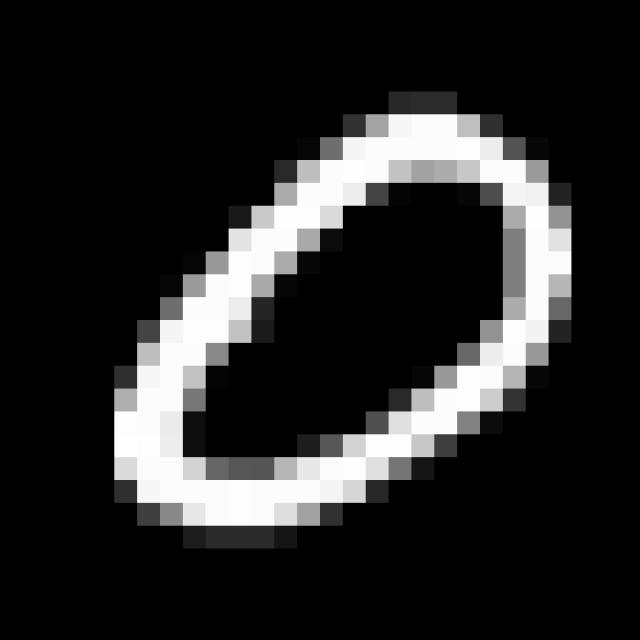zero -0-: (89, 89, 590, 548)
